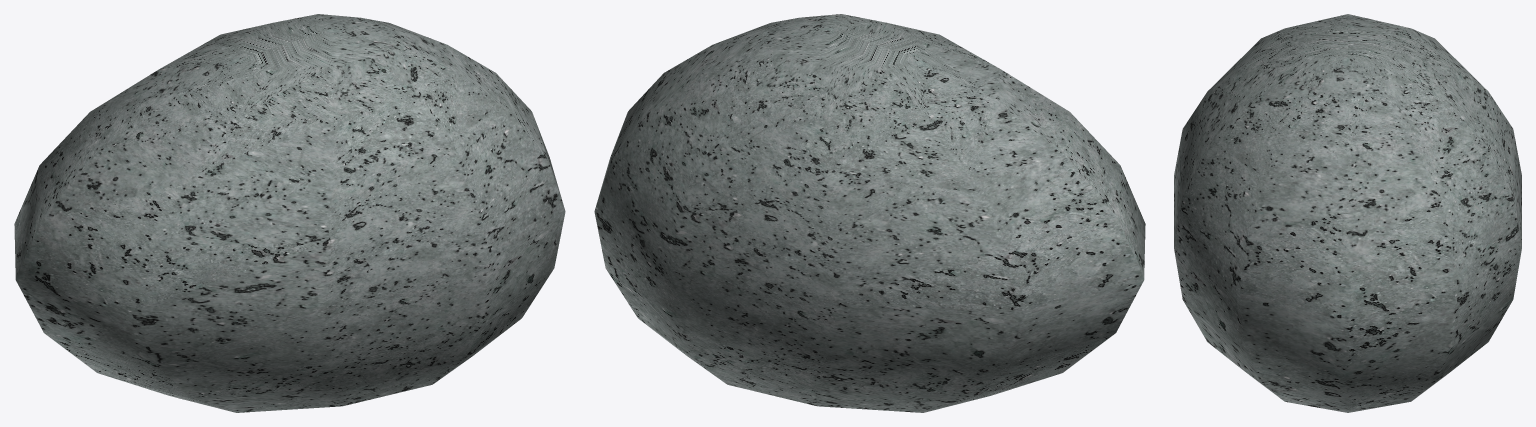
The model's file is rock1fbx.fbx.
3 views of the same model, side by side, from view 1: azimuth 30°, elevation 25°; view 2: azimuth 150°, elevation 25°; view 3: azimuth 270°, elevation 25° (orthographic). The views are drawn at different scales.
Parts seen in each view (by area): view 1: rock_1; view 2: rock_1; view 3: rock_1.
Boxes of the visible parts, x1=… form: rock_1: x1=14, y1=14, x2=565, y2=412; rock_1: x1=594, y1=14, x2=1145, y2=412; rock_1: x1=1174, y1=14, x2=1521, y2=412.
Bounding box in the file's own units: 4 × 2.56 × 2.5.
